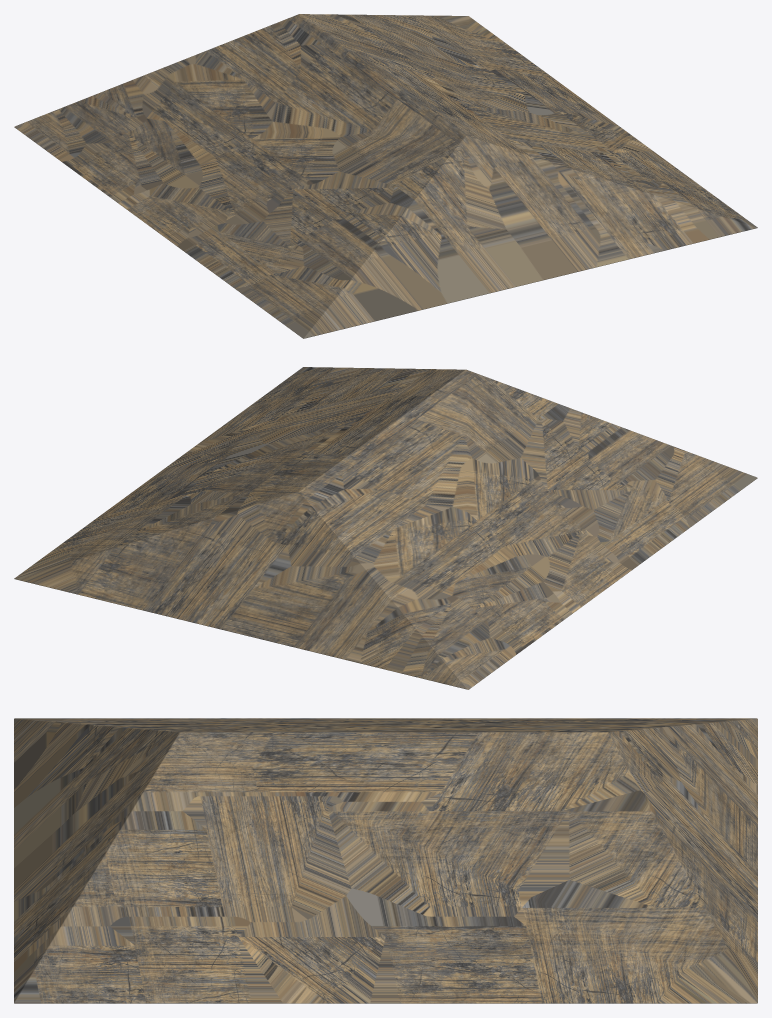
Rendered from BW_Bakery01_RoofDeck.fbx.
3 views of the same model, one above another, from view 1: azimuth 30°, elevation 25°; view 2: azimuth 150°, elevation 25°; view 3: azimuth 270°, elevation 25° (orthographic). The views are drawn at different scales.
Visible parts, largest first — view 1: BW_Bakery01_RoofDeck; view 2: BW_Bakery01_RoofDeck; view 3: BW_Bakery01_RoofDeck.
Boxes of the visible parts, x1=… form: BW_Bakery01_RoofDeck: x1=14, y1=14, x2=757, y2=338; BW_Bakery01_RoofDeck: x1=14, y1=367, x2=757, y2=689; BW_Bakery01_RoofDeck: x1=14, y1=718, x2=757, y2=1003.
Size of the model in its own units: 7.48 by 1.58 by 8.26.
